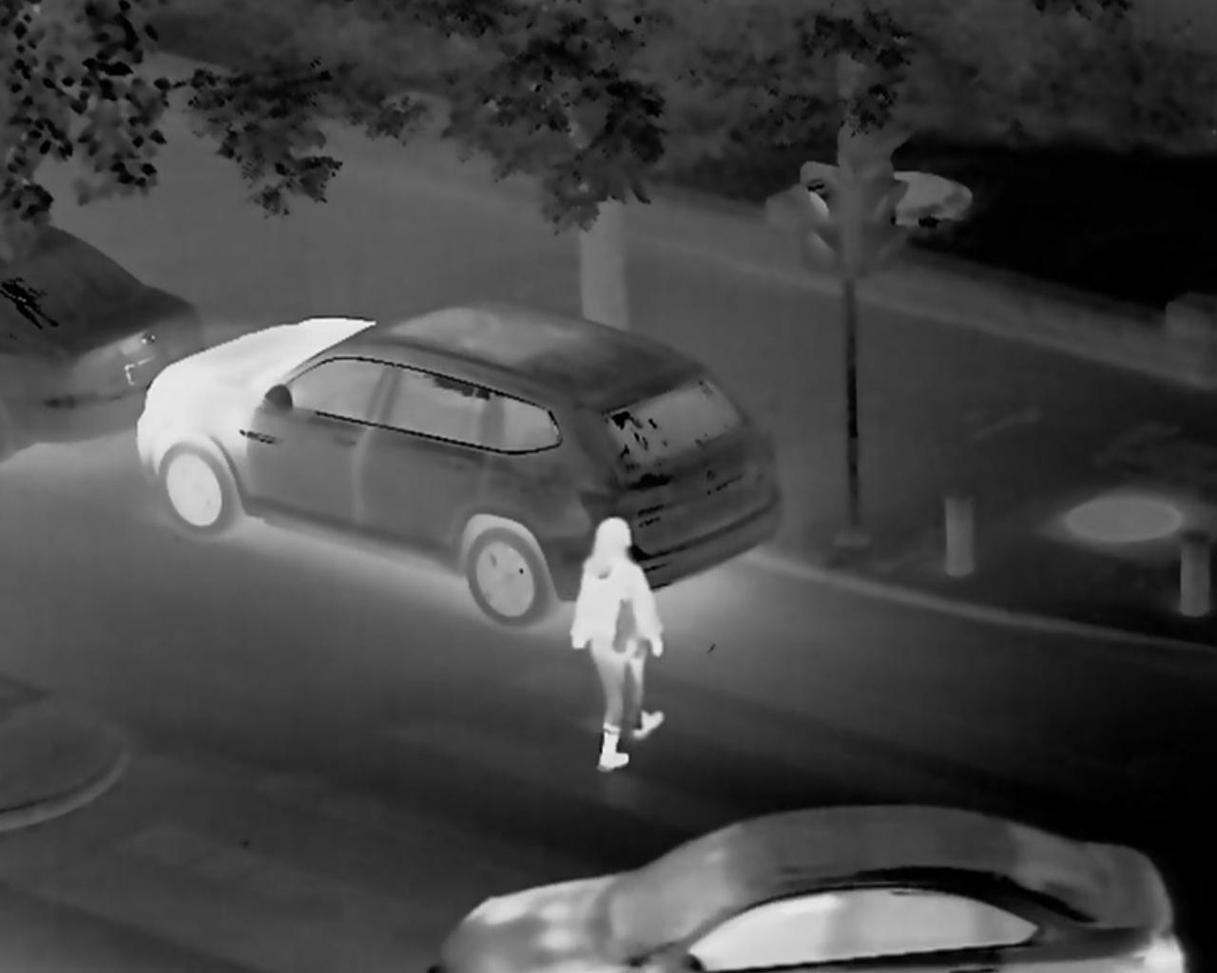person: (570, 502, 702, 793)
